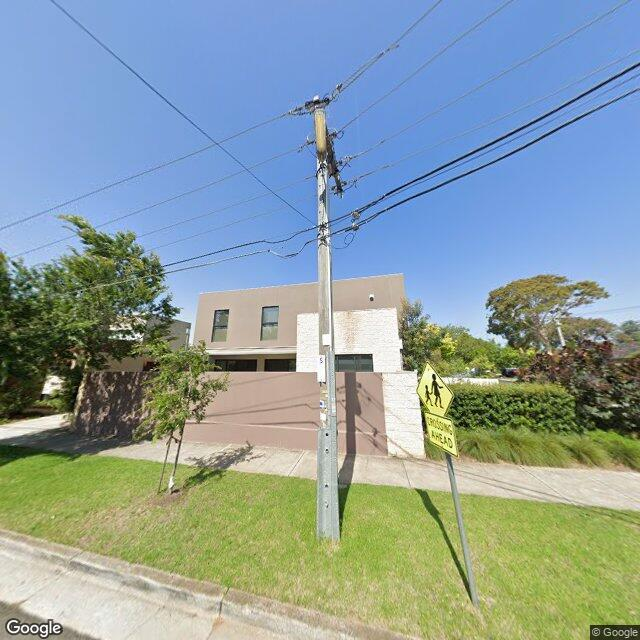crossarm: (314, 96, 342, 192)
streetlight: (314, 109, 328, 176)
timber-pole: (316, 159, 339, 544)
